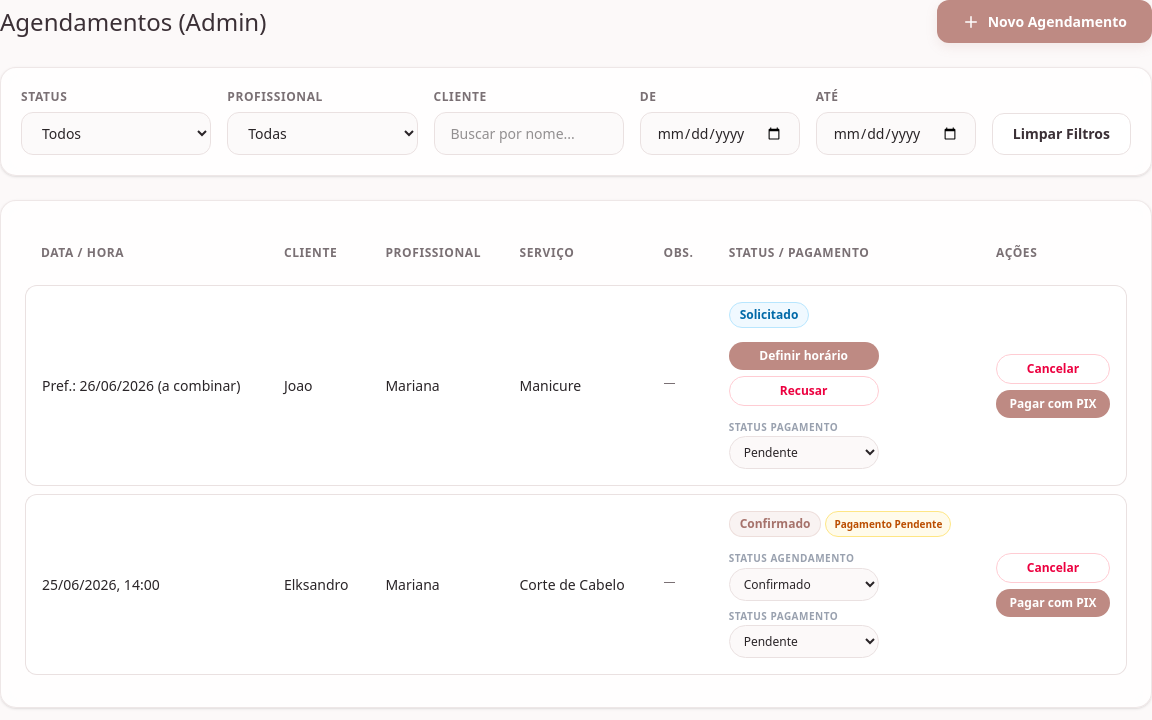
AdminAppointments Component › shows a search box to filter services when there are more than 6, and filters the list
Click the button "Novo Agendamento" at (1044, 22), box [937,0,1151,43]
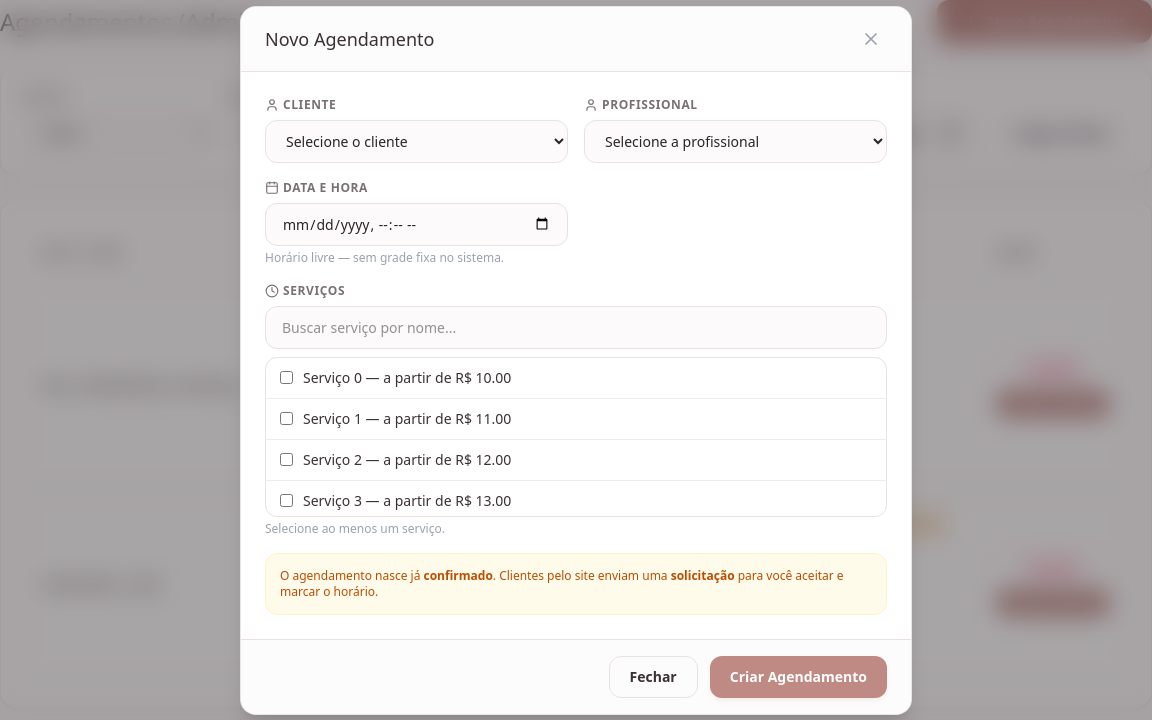
Now the field with placeholder "Buscar serviço por nome..." is shown
Type "Serviço 3" into the field with placeholder "Buscar serviço por nome..." at (576, 327), box [265,306,887,348]
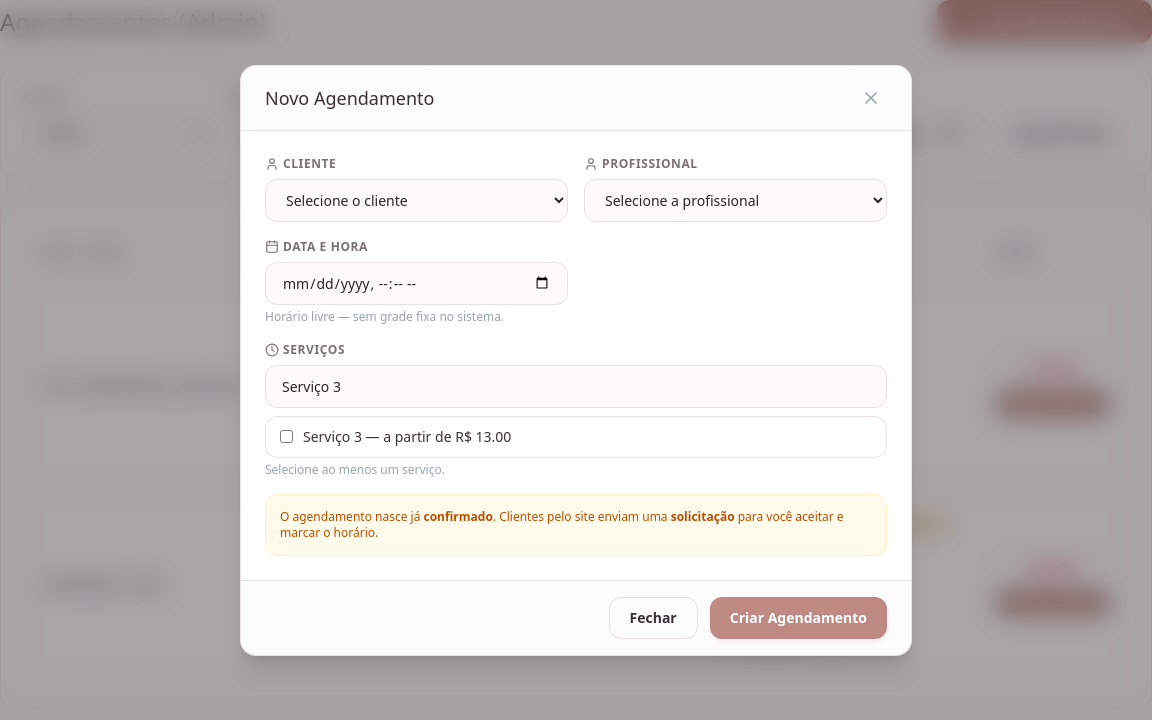
Now the number of checkboxes is 1, box [280,430,293,443]
